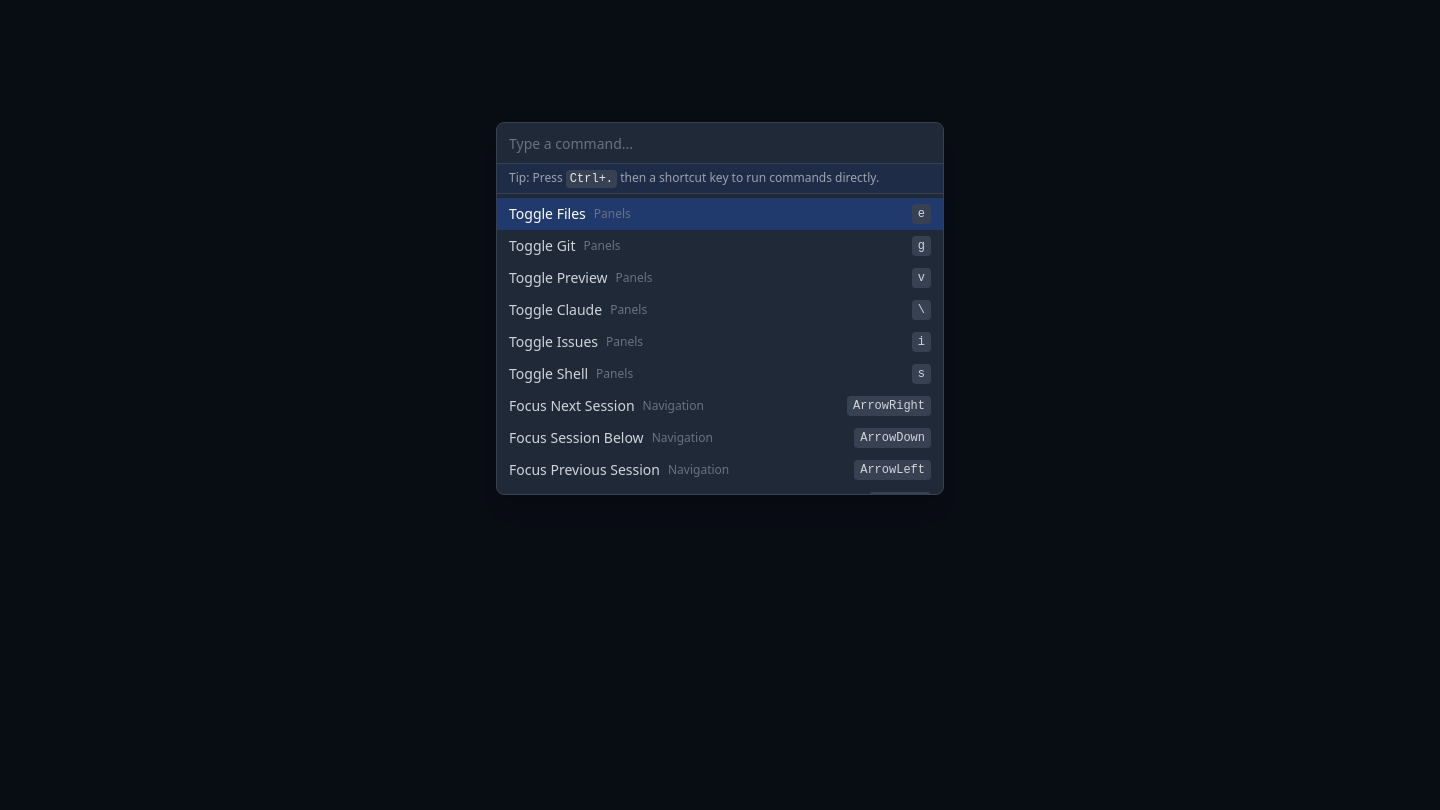
Test case: CommandPalette › typing in search filters the command list (case-insensitive)
Type "files" into the field with test id "command-palette-input" at (720, 144), box [509, 134, 931, 154]
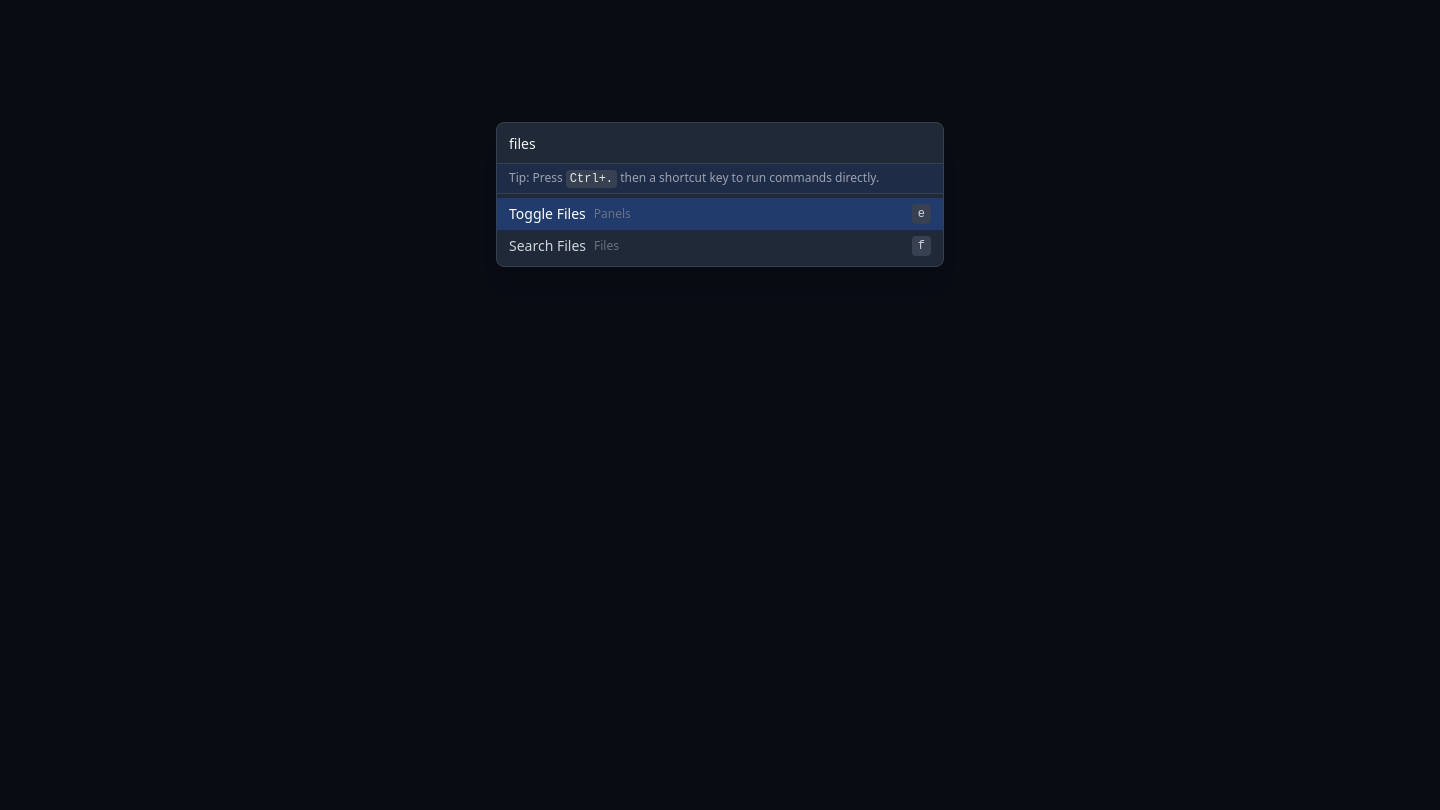
Expected: the button with test id "command-item-toggle_files" is shown, [497, 198, 943, 230]
Result: the button with test id "command-item-search_files" is shown at [497, 230, 943, 262]
Result: the button with test id "command-item-toggle_git" is gone
